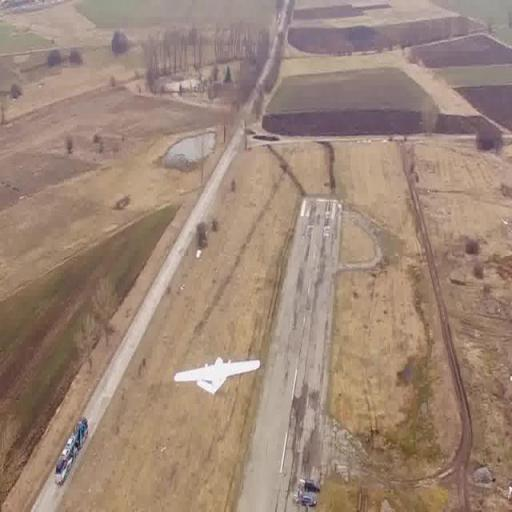uav: (173, 346, 267, 400)
